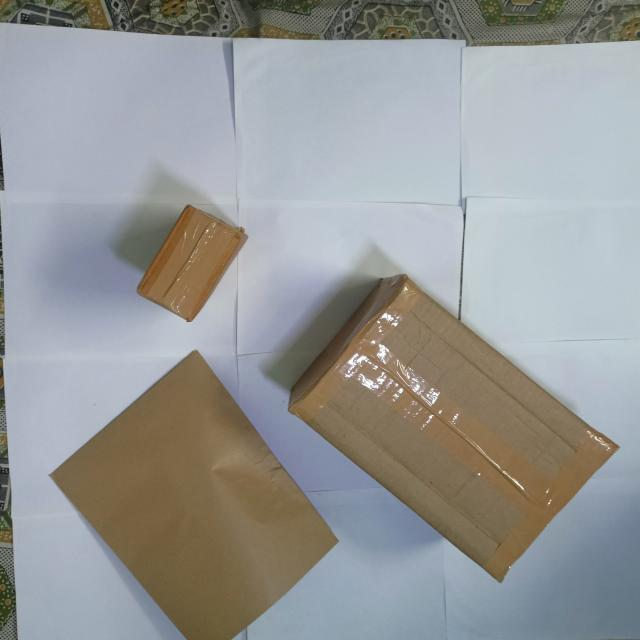box: (289, 277, 619, 585), (49, 353, 341, 640), (138, 208, 248, 325)
